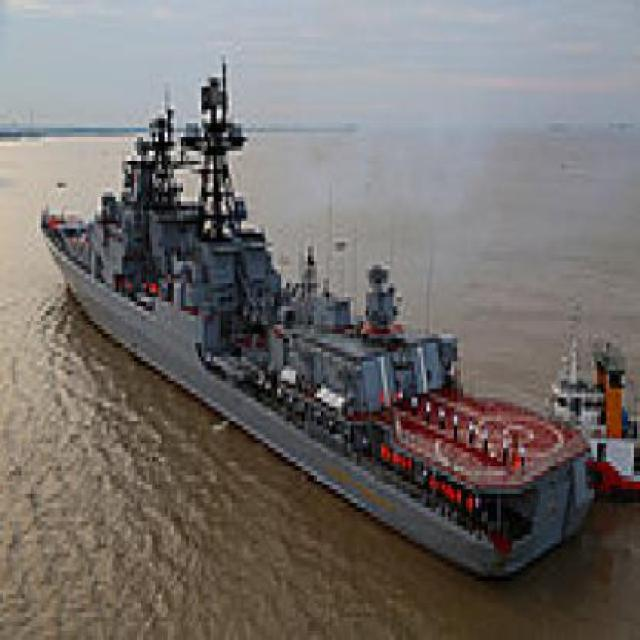warship2: (25, 28, 611, 600)
